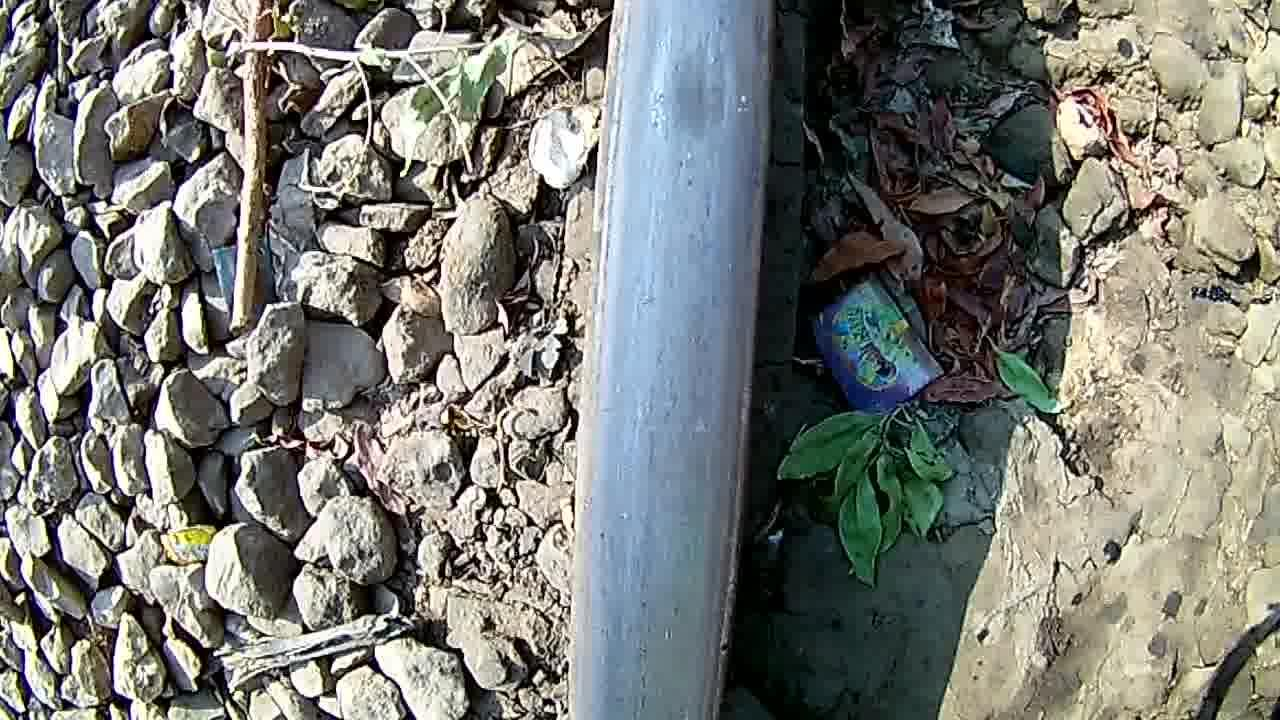bolt_missing: (608, 0, 782, 296)
